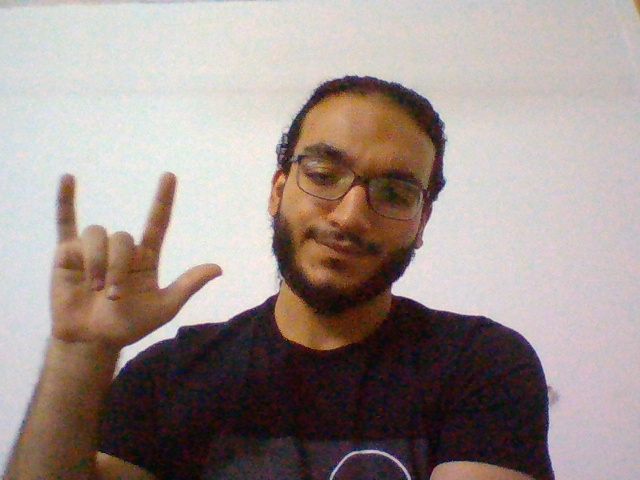I Love Yoy: (41, 164, 226, 345)
